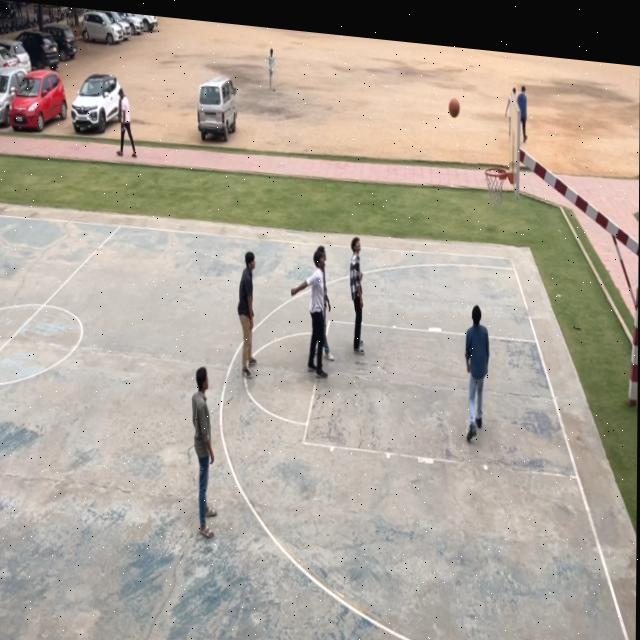basketball: (447, 92, 461, 122)
hoop: (482, 166, 508, 211)
